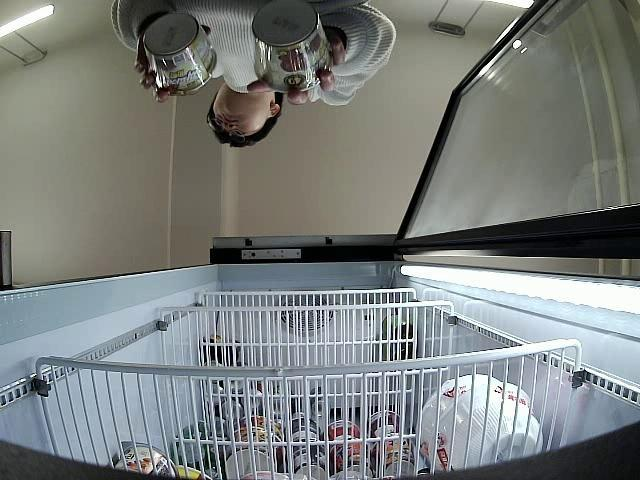04_chapagetti_S: (250, 0, 332, 91), (142, 12, 218, 92)
